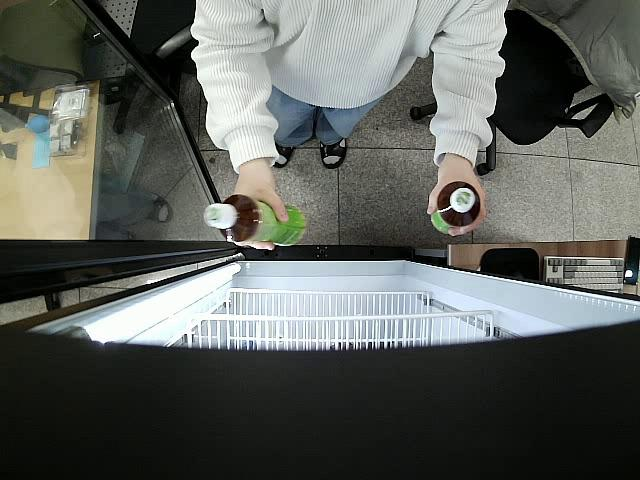00_hand: (231, 176, 289, 250), (428, 168, 486, 235)
19_17cha: (205, 196, 306, 246), (431, 181, 479, 236)
